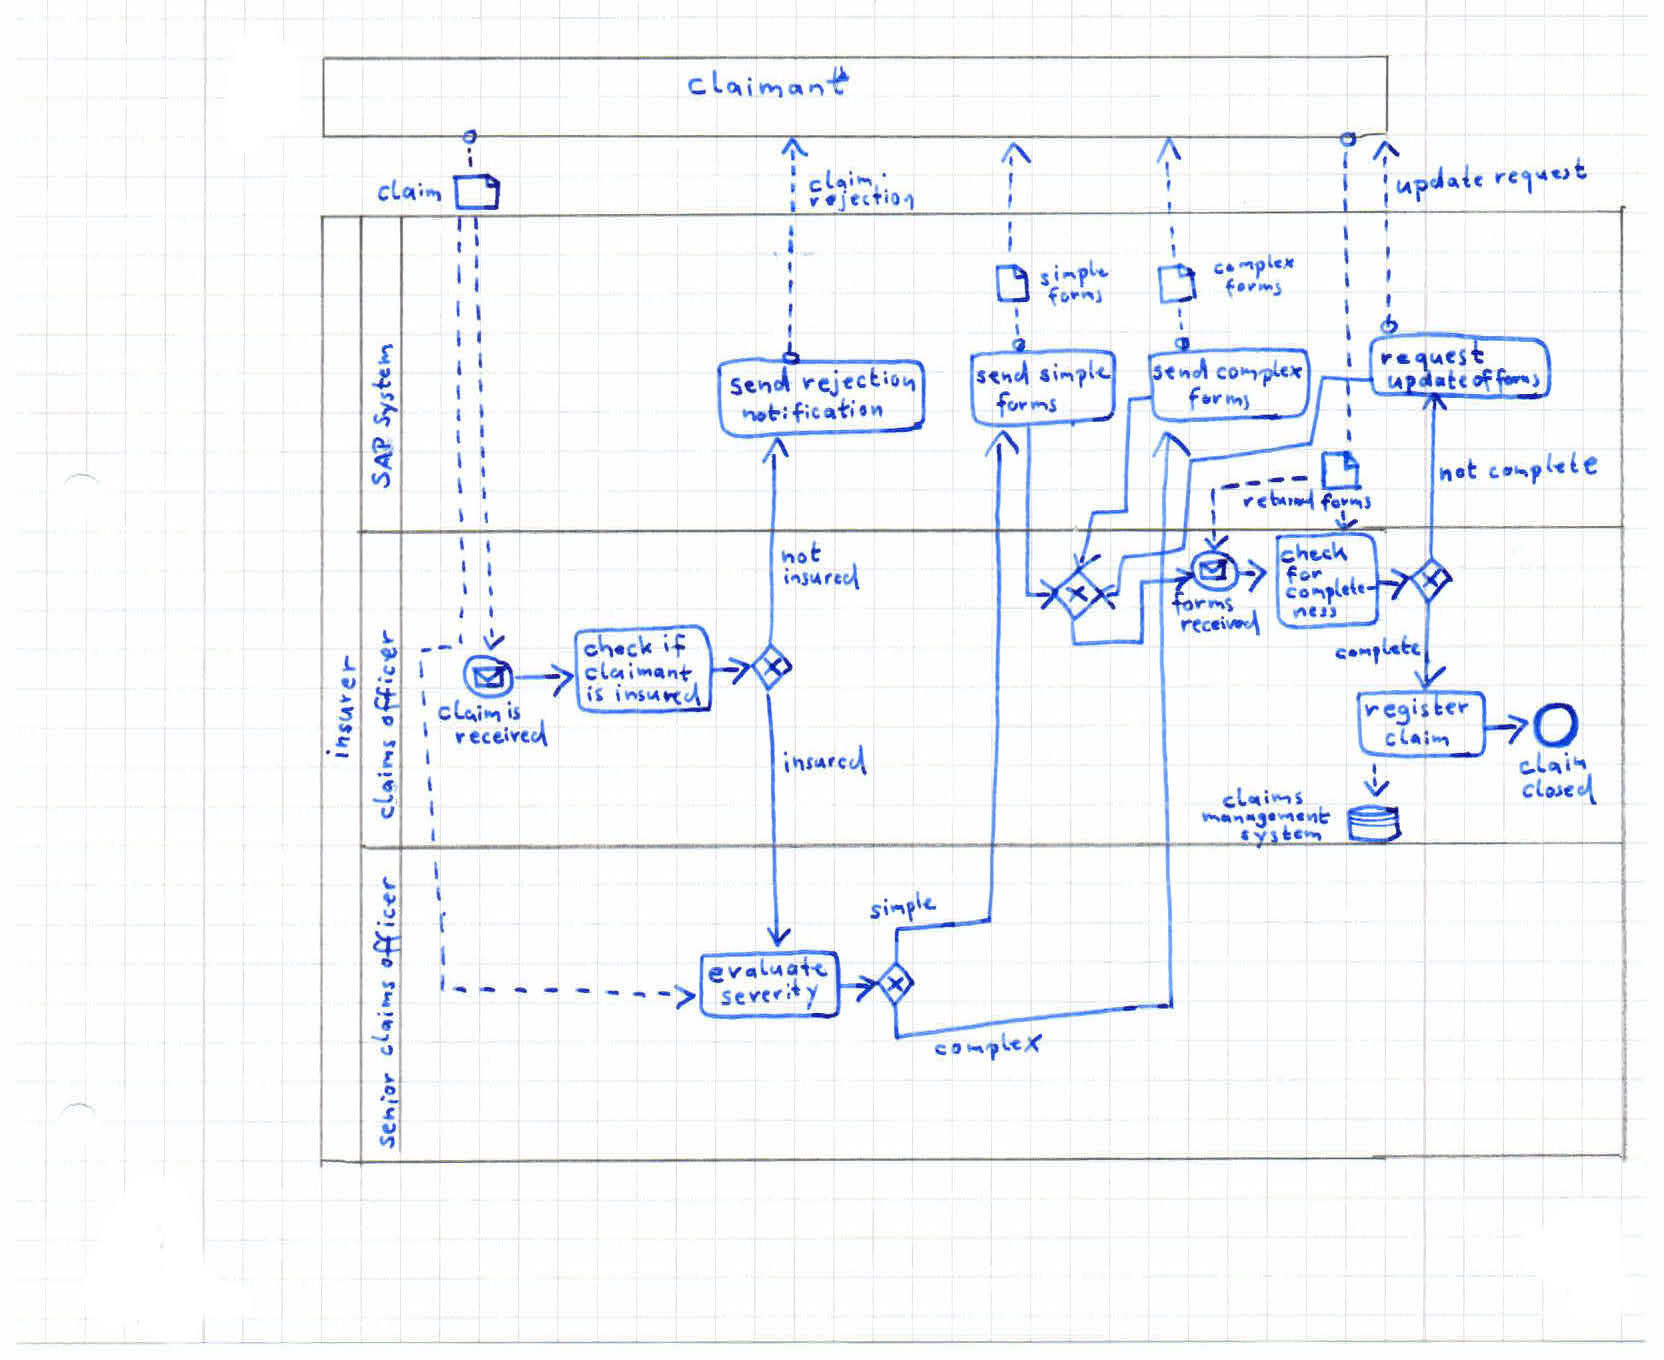Forms: (1043, 281, 1104, 308), (1187, 388, 1256, 412)
SAP: (369, 433, 398, 487)
System: (369, 340, 399, 428)
check: (582, 632, 652, 663), (1281, 542, 1350, 568)
claim: (1518, 750, 1584, 780), (1383, 726, 1457, 752), (376, 180, 445, 203), (435, 701, 498, 726), (807, 171, 869, 192)
claimant: (687, 68, 855, 105), (585, 663, 697, 687)
claims: (370, 733, 401, 821), (370, 977, 402, 1061), (1223, 788, 1306, 810)
closed: (1520, 775, 1600, 804)
complete: (1482, 451, 1600, 487), (1334, 636, 1429, 668)
complete-: (1285, 575, 1381, 603)
complex: (932, 1030, 1042, 1066), (1212, 359, 1305, 387), (1211, 254, 1296, 278)
evaluate: (710, 958, 829, 987)
for: (1288, 565, 1323, 583)
forms: (992, 391, 1060, 417), (1223, 276, 1285, 299), (1318, 491, 1374, 514), (1171, 596, 1234, 614), (1494, 369, 1541, 393)
if: (656, 630, 690, 659)
insured: (774, 745, 871, 780), (609, 686, 710, 708), (781, 567, 867, 592)
insurer: (328, 652, 362, 766)
is: (502, 701, 524, 726), (585, 684, 605, 708)
management: (1211, 809, 1332, 827)
ness: (1296, 604, 1341, 621)
not: (1437, 457, 1477, 489), (782, 545, 824, 569)
notification: (744, 399, 885, 426)
of: (1471, 369, 1491, 393)
officer: (370, 872, 405, 973), (370, 629, 404, 728)
received: (451, 724, 551, 752), (1179, 614, 1265, 637)
register: (1368, 697, 1475, 726)
rejection: (800, 368, 920, 397), (811, 187, 918, 214)
request: (1484, 151, 1591, 198), (1378, 346, 1488, 373)
returned: (1240, 489, 1314, 513)
send: (727, 373, 797, 401), (972, 362, 1031, 391), (1148, 359, 1209, 386)
senior: (370, 1066, 404, 1151)
severity: (719, 983, 821, 1009)
simple: (867, 890, 941, 925), (1035, 359, 1108, 390), (1035, 260, 1106, 285)
system: (1238, 825, 1324, 844)
update: (1390, 160, 1477, 200), (1383, 369, 1468, 393)
